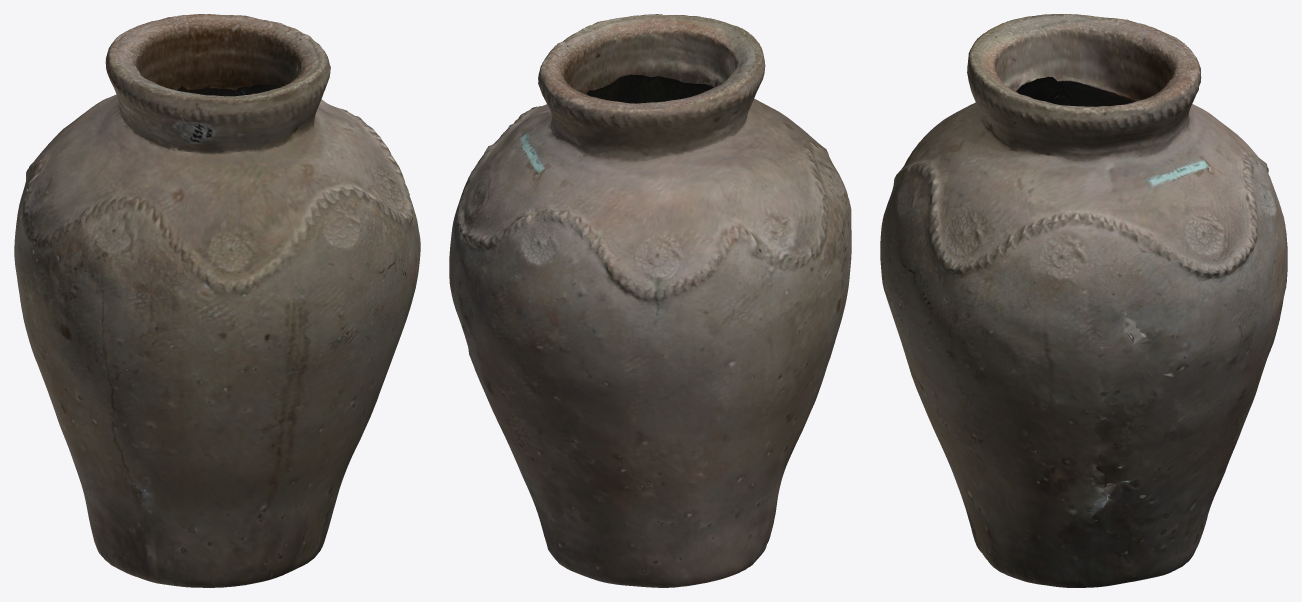
The model's file is hum.gltf.
The picture shows the model from 3 angles, left to right: view 1: azimuth 30°, elevation 25°; view 2: azimuth 150°, elevation 25°; view 3: azimuth 270°, elevation 25°; orthographic projection.
Visible parts, largest first — view 1: HumHigh; view 2: HumHigh; view 3: HumHigh.
Boxes of the visible parts, <box> form: HumHigh: <box>14,14,420,587</box>; HumHigh: <box>449,14,851,587</box>; HumHigh: <box>880,14,1287,587</box>.
Size of the model in its own units: 8.94 by 11.94 by 8.99.
Materials: 1 (1 with a texture image).
